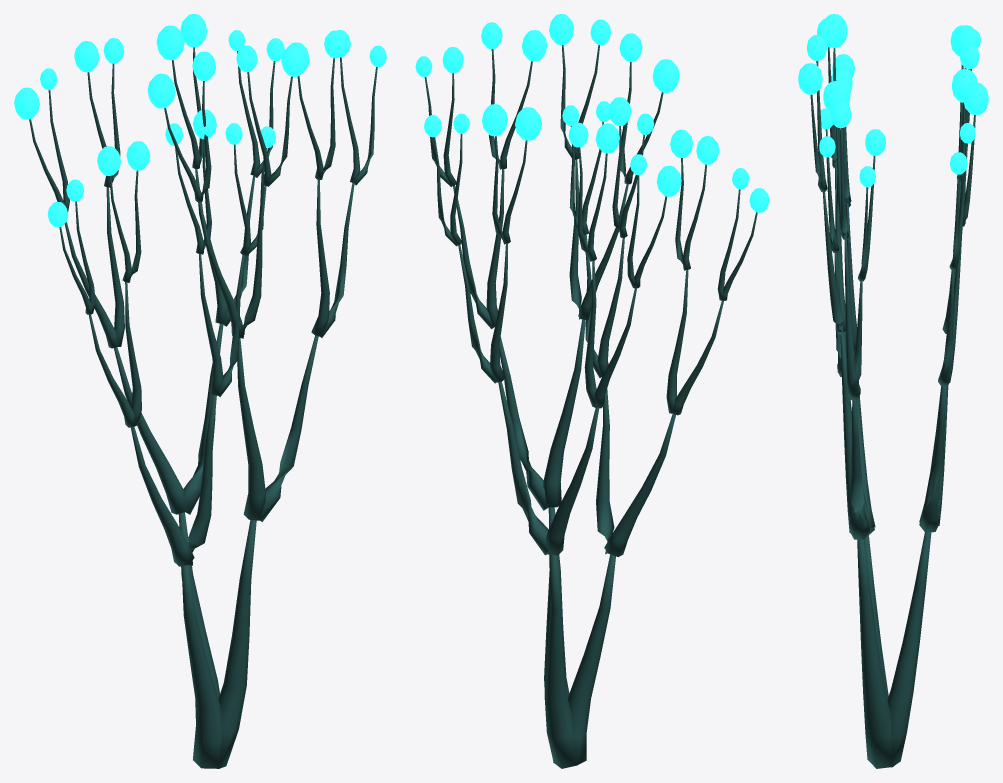
File: SM_CoralBranch_01.fbx
3 renders of one model, left to right at view 1: azimuth 30°, elevation 25°; view 2: azimuth 150°, elevation 25°; view 3: azimuth 270°, elevation 25°, orthographic. The views are drawn at different scales.
Visible parts, largest first — view 1: SM_CoralBranch_01.001; view 2: SM_CoralBranch_01.001; view 3: SM_CoralBranch_01.001.
Boxes of the visible parts, <box> form: SM_CoralBranch_01.001: <box>14,14,386,768</box>; SM_CoralBranch_01.001: <box>415,14,769,768</box>; SM_CoralBranch_01.001: <box>798,14,988,768</box>.
Size of the model in its own units: 209 by 101 by 424.
